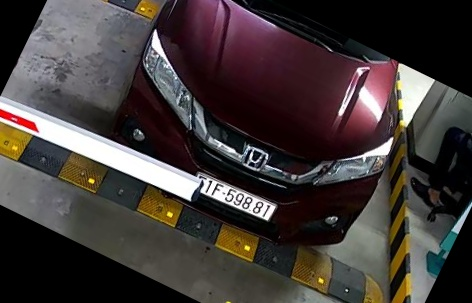plate: (190, 169, 281, 224)
